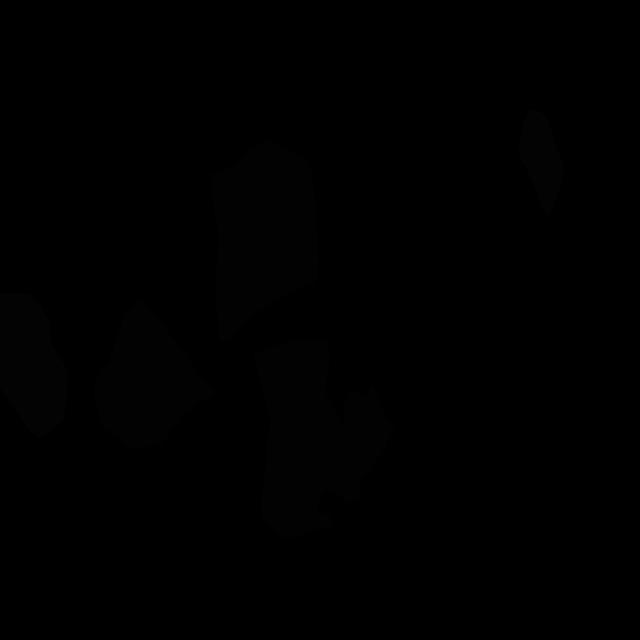cardboard: (254, 339, 396, 538), (211, 140, 318, 340), (93, 297, 216, 451)
metal: (0, 292, 68, 438), (519, 109, 564, 215)
